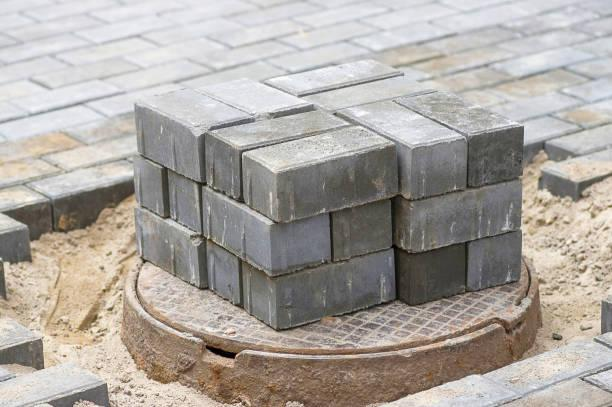Bricks: (238, 121, 404, 220), (205, 107, 353, 198), (406, 90, 526, 187), (347, 98, 466, 195), (241, 255, 397, 327), (134, 85, 249, 181), (198, 187, 329, 271), (395, 176, 527, 251), (268, 55, 405, 96), (198, 75, 315, 120), (136, 208, 200, 288), (309, 73, 431, 111), (402, 245, 468, 303), (334, 199, 395, 255), (468, 231, 523, 288), (204, 243, 241, 301), (170, 171, 200, 229), (137, 155, 165, 214)
